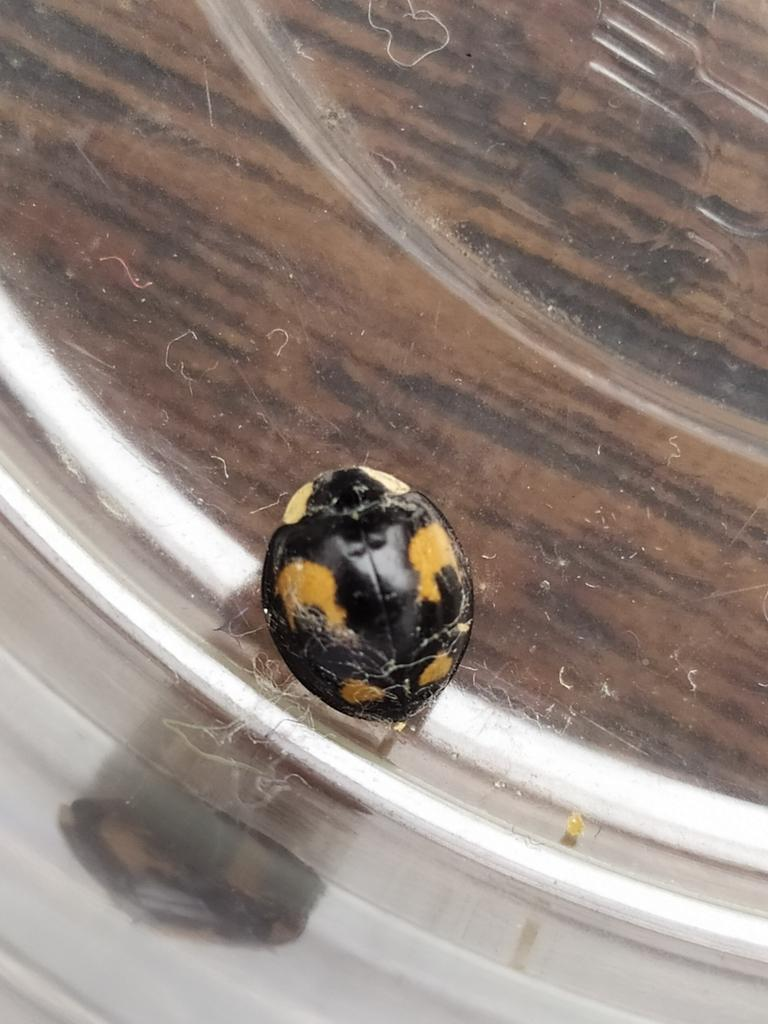ladybug: (259, 464, 481, 736)
